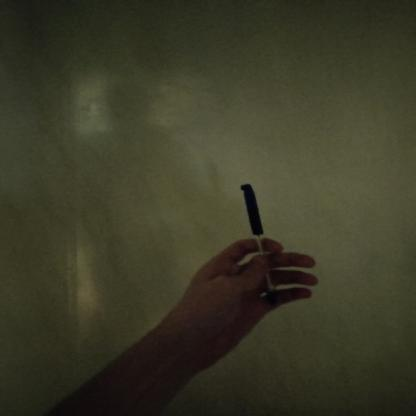pen: (234, 182, 302, 313)
